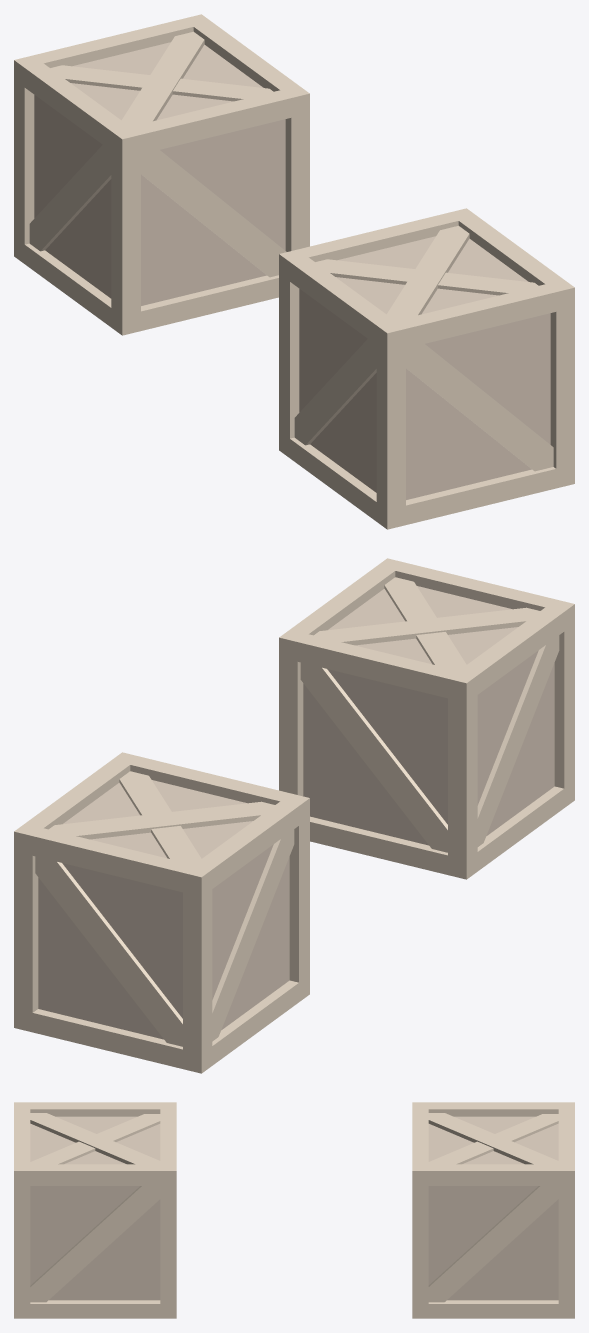
File: scene_two.glb
The picture shows the model from 3 angles, top to bottom: view 1: azimuth 30°, elevation 25°; view 2: azimuth 150°, elevation 25°; view 3: azimuth 270°, elevation 25°; orthographic projection. The views are drawn at different scales.
Visible parts, largest first — view 1: object1, object1.001; view 2: object1.001, object1; view 3: object1, object1.001.
Boxes of the visible parts, box(x1,y1,x2,y2) form: object1: box(279, 208, 574, 529); object1.001: box(14, 14, 309, 335); object1.001: box(14, 752, 309, 1073); object1: box(279, 558, 574, 879); object1: box(14, 1102, 176, 1318); object1.001: box(412, 1102, 574, 1318).
Size of what is drawn, in the model's own units: 2.37 by 2.37 by 8.17.
